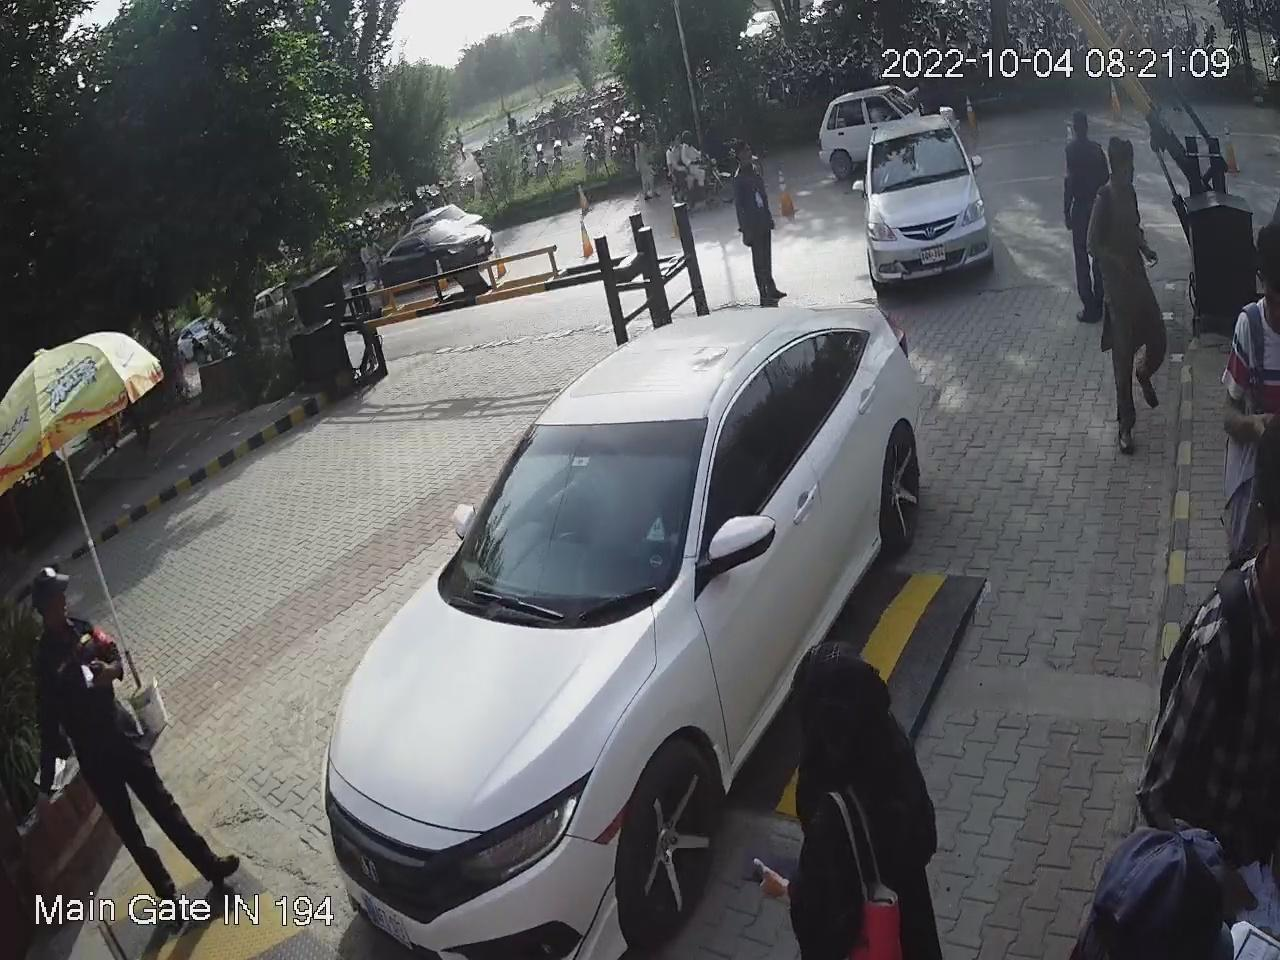windshield: (449, 400, 718, 617)
